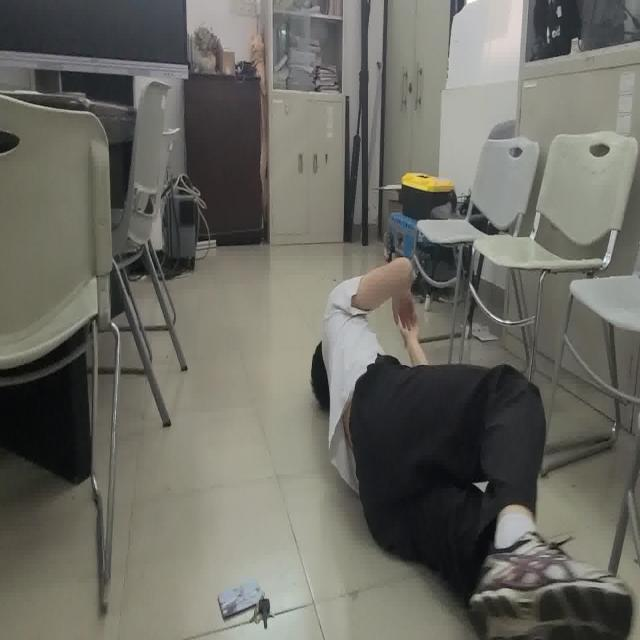Fall: (312, 261, 632, 640)
